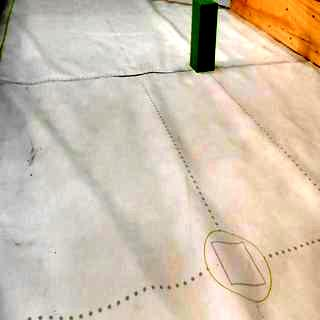greenbox: (190, 0, 218, 70)
